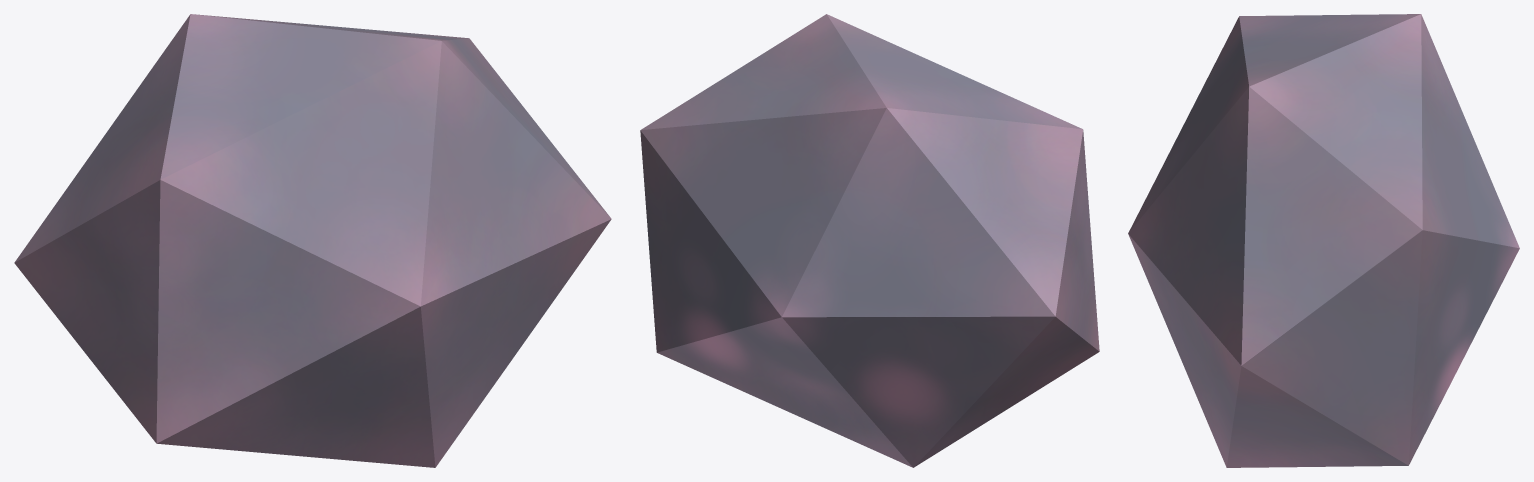
File: rock.dae
The picture shows the model from 3 angles, left to right: view 1: azimuth 30°, elevation 25°; view 2: azimuth 150°, elevation 25°; view 3: azimuth 270°, elevation 25°; orthographic projection. The views are drawn at different scales.
Visible parts, largest first — view 1: rock_head; view 2: rock_head; view 3: rock_head.
Boxes of the visible parts, x1,y1,x2,y2 form: rock_head: [14, 14, 611, 467]; rock_head: [640, 14, 1099, 467]; rock_head: [1128, 14, 1519, 467].
Size of the model in its own units: 2.45 by 1.73 by 1.91.
1 material, 1 textured.
